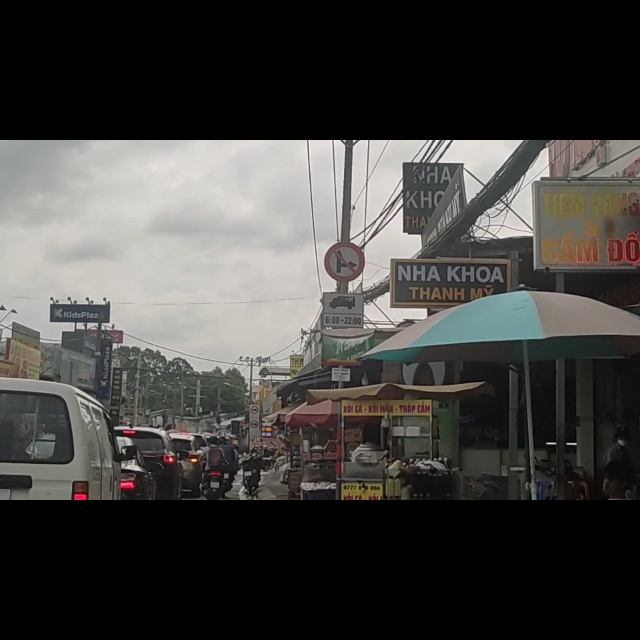bien_cam: (325, 180, 364, 249), (324, 270, 361, 329)
